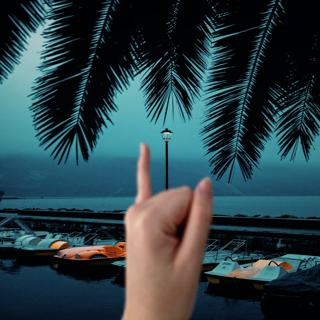Fine: (114, 140, 221, 313)
